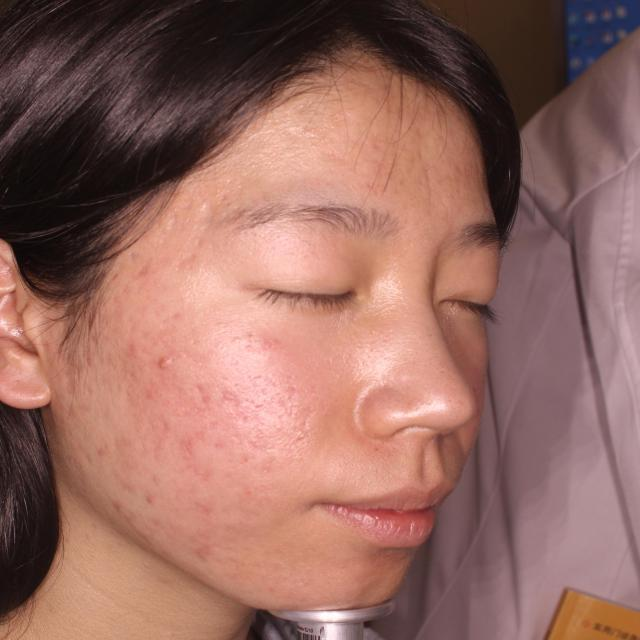acne: (186, 495, 229, 537), (117, 337, 156, 370), (154, 350, 187, 380), (61, 342, 97, 367), (112, 496, 136, 525), (194, 387, 223, 410), (138, 487, 164, 504)
